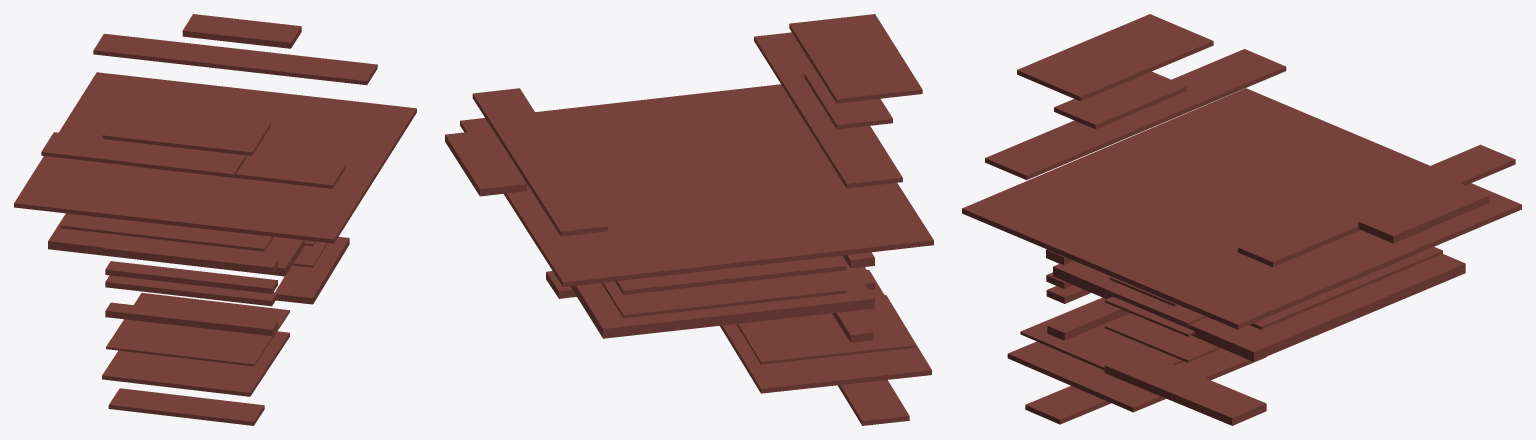
Rendered from platforme bois 01.fbx.
The picture shows the model from 3 angles, left to right: view 1: azimuth 30°, elevation 25°; view 2: azimuth 150°, elevation 25°; view 3: azimuth 270°, elevation 25°; orthographic projection. The views are drawn at different scales.
Visible parts, largest first — view 1: Plane.285, Plane.607, Plane.291, Cube.296, Plane.344, Cube.304, Plane.193, Plane.338, Plane.278, Cube.276, Plane.292, Cube.280 (+5 smaller); view 2: Plane.285, Plane.291, Cube.296, Plane.193, Cube.304, Plane.607, Plane.344, Plane.338, Plane.340, Plane.292, Plane.278, Cube.295 (+1 smaller); view 3: Plane.285, Plane.193, Cube.304, Cube.296, Plane.291, Plane.344, Cube.402, Plane.292, Cube.295, Plane.607, Cube.401, Plane.338 (+5 smaller).
Boxes of the visible parts, left/top/right/bottom form: Plane.285: left=14, top=72, right=416, bottom=243; Plane.607: left=106, top=293, right=289, bottom=366; Plane.291: left=93, top=33, right=377, bottom=85; Cube.296: left=102, top=105, right=271, bottom=155; Plane.344: left=102, top=331, right=289, bottom=396; Cube.304: left=41, top=132, right=345, bottom=188; Plane.193: left=48, top=213, right=305, bottom=276; Plane.338: left=60, top=213, right=273, bottom=251; Plane.278: left=108, top=388, right=264, bottom=425; Cube.276: left=105, top=240, right=278, bottom=274; Plane.292: left=182, top=14, right=301, bottom=48; Cube.280: left=105, top=302, right=277, bottom=335; Plane.285: left=460, top=84, right=933, bottom=287; Plane.291: left=472, top=88, right=607, bottom=236; Cube.296: left=789, top=14, right=922, bottom=103; Plane.193: left=571, top=255, right=874, bottom=338; Cube.304: left=754, top=32, right=902, bottom=188; Plane.607: left=736, top=270, right=914, bottom=364; Plane.344: left=720, top=295, right=931, bottom=393; Plane.338: left=601, top=271, right=845, bottom=318; Plane.340: left=615, top=256, right=845, bottom=294; Plane.292: left=445, top=129, right=526, bottom=196; Plane.278: left=838, top=380, right=909, bottom=425; Cube.295: left=804, top=72, right=892, bottom=129; Plane.285: left=962, top=88, right=1521, bottom=329; Plane.193: left=1053, top=254, right=1465, bottom=361; Cube.304: left=985, top=49, right=1286, bottom=180; Cube.296: left=1017, top=14, right=1213, bottom=101; Plane.291: left=1238, top=144, right=1515, bottom=266; Plane.344: left=1007, top=341, right=1266, bottom=412; Cube.402: left=1104, top=351, right=1266, bottom=425; Plane.292: left=1358, top=181, right=1489, bottom=243; Cube.295: left=1054, top=71, right=1187, bottom=129; Plane.607: left=1020, top=297, right=1184, bottom=370; Cube.401: left=1104, top=314, right=1220, bottom=362; Plane.338: left=1250, top=247, right=1442, bottom=329.
Size of the model in its own units: 56.64 by 37.57 by 56.63.
